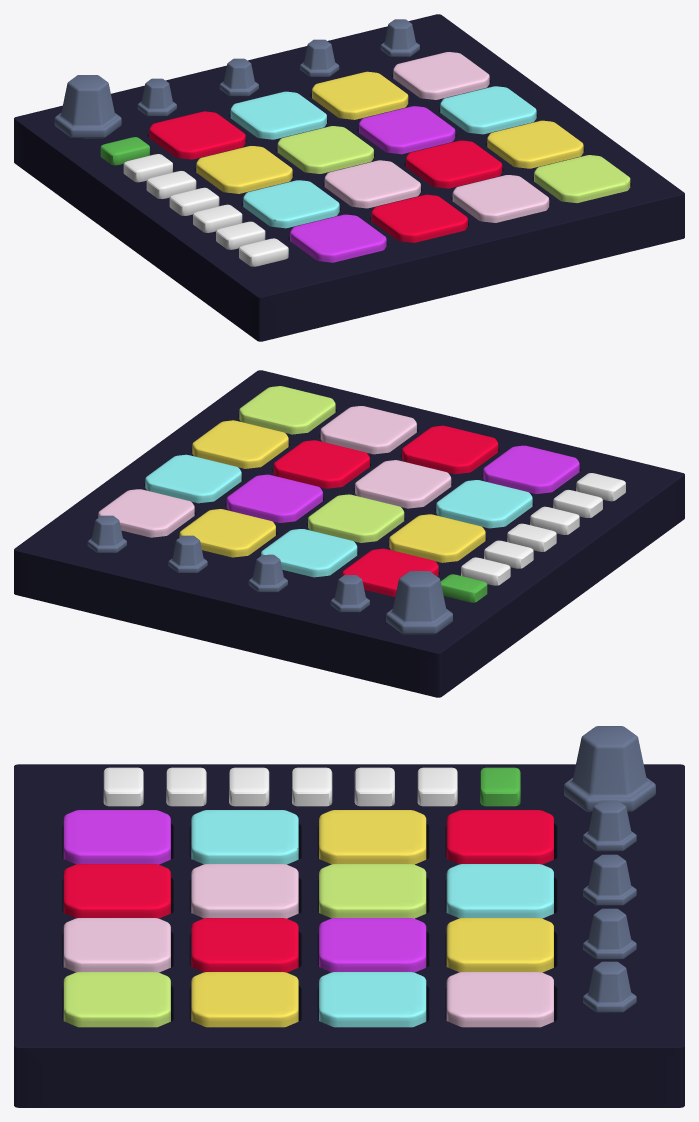
File: konsola.fbx
The picture shows the model from 3 angles, top to bottom: view 1: azimuth 30°, elevation 25°; view 2: azimuth 150°, elevation 25°; view 3: azimuth 270°, elevation 25°; orthographic projection. The views are drawn at different scales.
Visible parts, largest first — view 1: Cube, Cube.015, Cube.013, Cube.014, Cube.001, Cube.010, Cube.012, Cube.009, Cube.002, Cube.005, Cube.006, Cube.007 (+17 smaller); view 2: Cube, Cube.005, Cube.013, Cube.006, Cube.010, Cube.007, Cube.008, Cube.012, Cube.014, Cube.011, Cube.015, Cube.016 (+17 smaller); view 3: Cube, Cube.004, Cube.008, Cube.012, Cube.016, Cube.002, Cube.003, Cube.001, Cube.005, Cube.006, Cube.007, Cube.009 (+17 smaller).
Part boxes in pixels (left/top/right/bottom): Cube: left=14, top=14, right=684, bottom=341; Cube.015: left=452, top=175, right=549, bottom=222; Cube.013: left=290, top=214, right=386, bottom=262; Cube.014: left=371, top=194, right=467, bottom=242; Cube.001: left=149, top=111, right=245, bottom=159; Cube.010: left=324, top=160, right=420, bottom=208; Cube.012: left=487, top=120, right=583, bottom=168; Cube.009: left=243, top=180, right=339, bottom=228; Cube.002: left=230, top=91, right=326, bottom=139; Cube.005: left=196, top=146, right=292, bottom=193; Cube.006: left=277, top=126, right=373, bottom=173; Cube.007: left=359, top=106, right=455, bottom=154; Cube: left=14, top=370, right=684, bottom=697; Cube.005: left=389, top=514, right=485, bottom=562; Cube.013: left=483, top=445, right=579, bottom=493; Cube.006: left=308, top=494, right=404, bottom=542; Cube.010: left=355, top=460, right=451, bottom=508; Cube.007: left=226, top=474, right=322, bottom=522; Cube.008: left=145, top=454, right=241, bottom=503; Cube.012: left=192, top=420, right=288, bottom=468; Cube.014: left=402, top=425, right=498, bottom=474; Cube.011: left=273, top=440, right=369, bottom=488; Cube.015: left=320, top=406, right=416, bottom=454; Cube.016: left=239, top=386, right=335, bottom=434; Cube: left=14, top=764, right=684, bottom=1107; Cube.004: left=446, top=972, right=553, bottom=1027; Cube.008: left=319, top=972, right=426, bottom=1027; Cube.012: left=191, top=972, right=298, bottom=1027; Cube.016: left=63, top=972, right=170, bottom=1027; Cube.002: left=446, top=864, right=553, bottom=918; Cube.003: left=446, top=918, right=553, bottom=972; Cube.001: left=446, top=810, right=553, bottom=864; Cube.005: left=319, top=810, right=426, bottom=864; Cube.006: left=319, top=864, right=426, bottom=918; Cube.007: left=319, top=918, right=426, bottom=972; Cube.009: left=191, top=810, right=298, bottom=864.
Size of the model in its own units: 1000 by 199 by 1000.
1 material, 1 textured.
